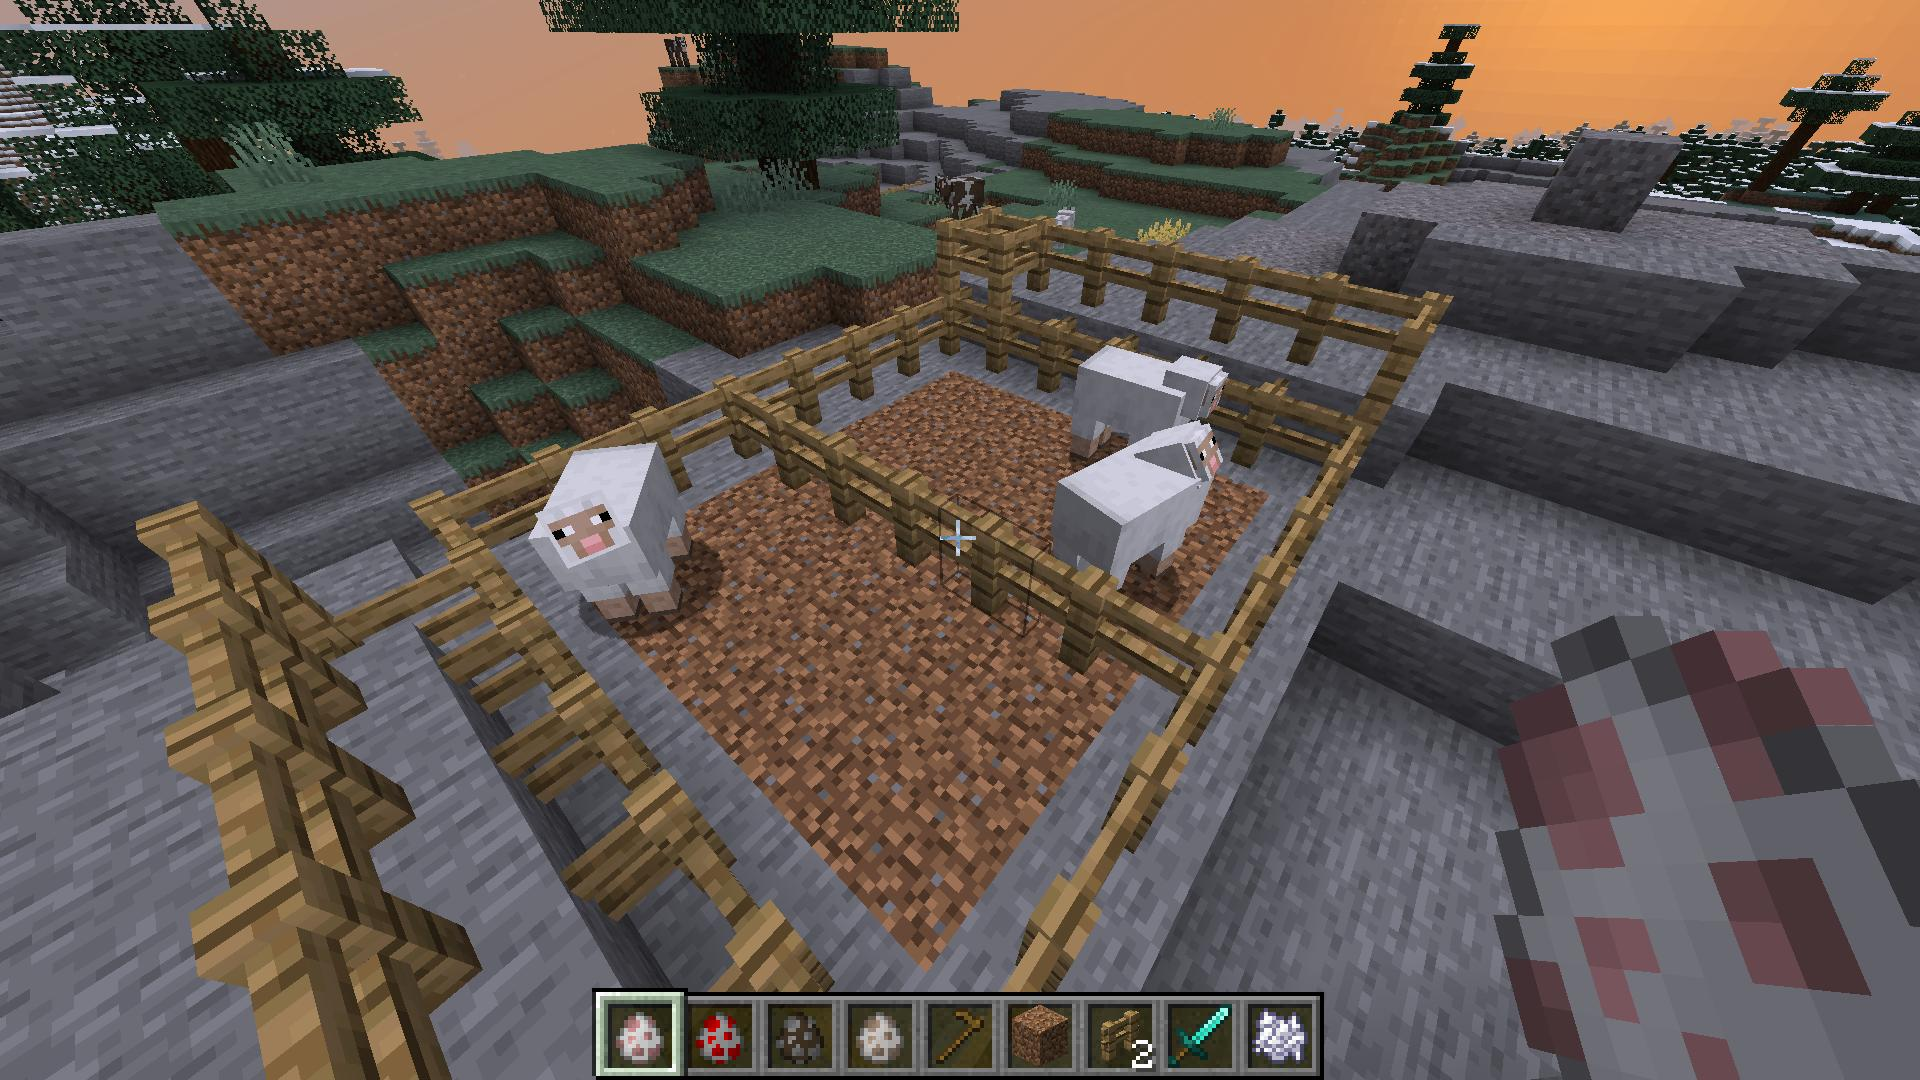cow: (930, 171, 996, 227)
sheep: (1040, 411, 1225, 596), (525, 442, 698, 620), (1071, 339, 1229, 454)
